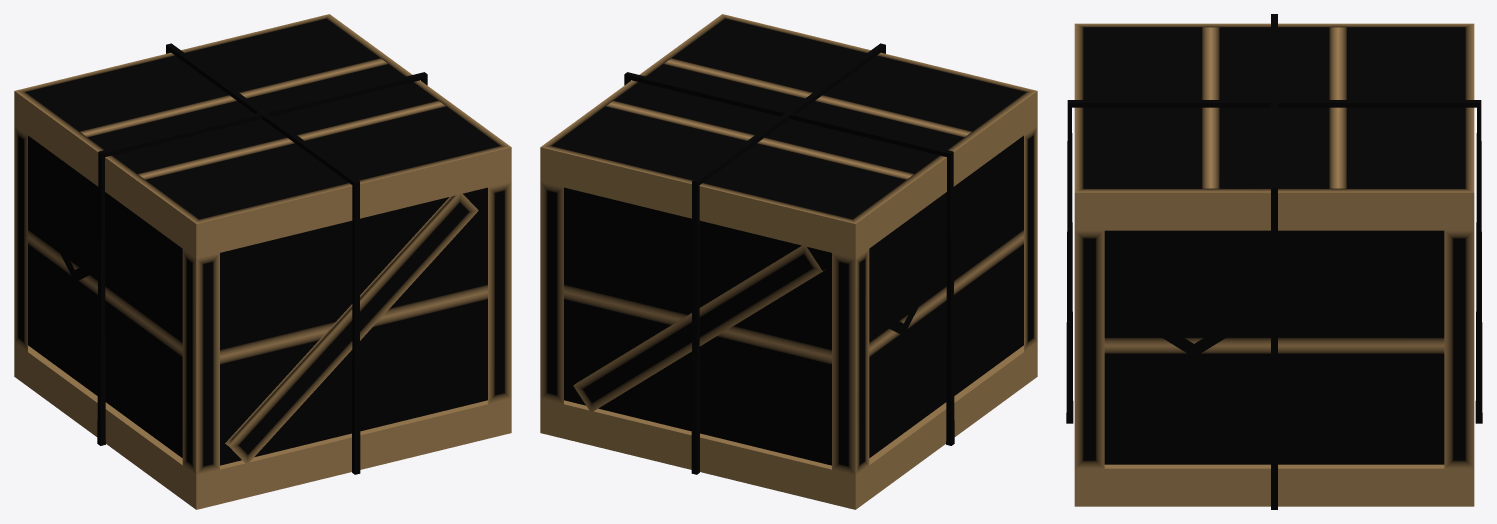
The model's file is stowed_crate_70.glb.
3 renders of one model, left to right at view 1: azimuth 30°, elevation 25°; view 2: azimuth 150°, elevation 25°; view 3: azimuth 270°, elevation 25°, orthographic. The views are drawn at different scales.
Visible parts, largest first — view 1: body, battens, lashing, stencils; view 2: body, battens, lashing, stencils; view 3: body, battens, lashing, stencils.
Part boxes in pixels (x1,y1,x2,y2): body: [26, 18, 499, 465]; battens: [14, 14, 511, 509]; lashing: [97, 43, 427, 474]; stencils: [50, 220, 97, 329]; body: [552, 18, 1025, 465]; battens: [540, 14, 1037, 509]; lashing: [624, 43, 954, 474]; stencils: [879, 274, 928, 383]; body: [1083, 27, 1465, 464]; battens: [1074, 23, 1474, 506]; lashing: [1066, 14, 1482, 509]; stencils: [1139, 289, 1248, 391].
Size of the model in its own units: 0.6953 by 0.5913 by 0.6953.
